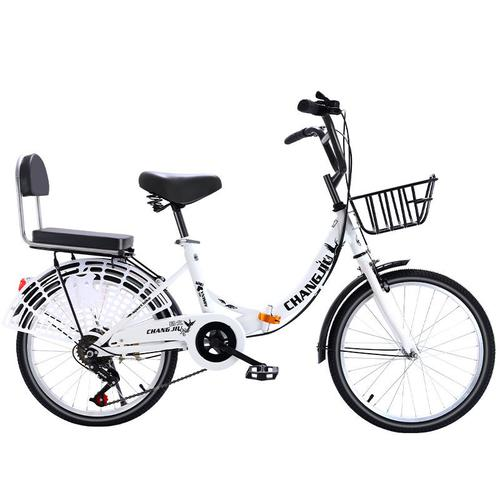单车: (4, 71, 500, 461)
